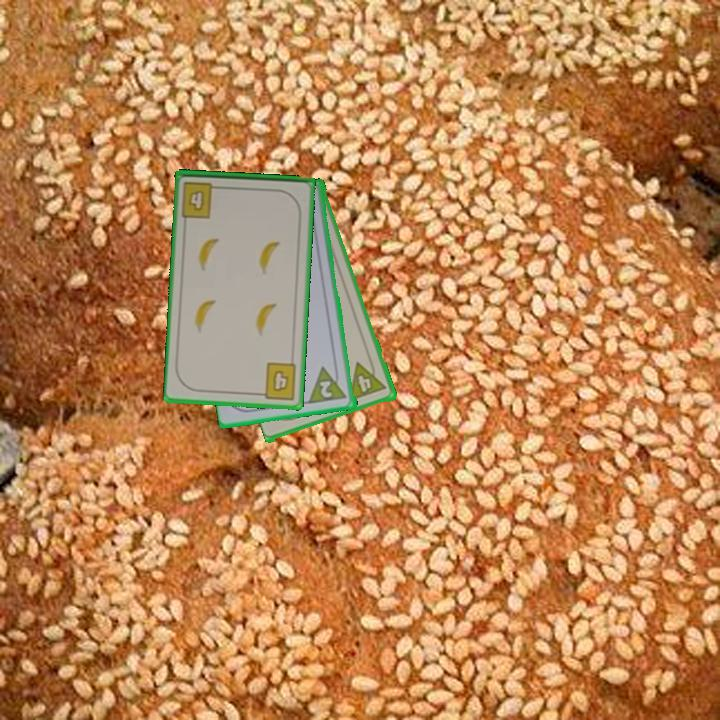2p: (306, 362, 350, 407)
4b: (254, 359, 300, 402), (178, 178, 224, 221)
4p: (346, 356, 390, 403)
